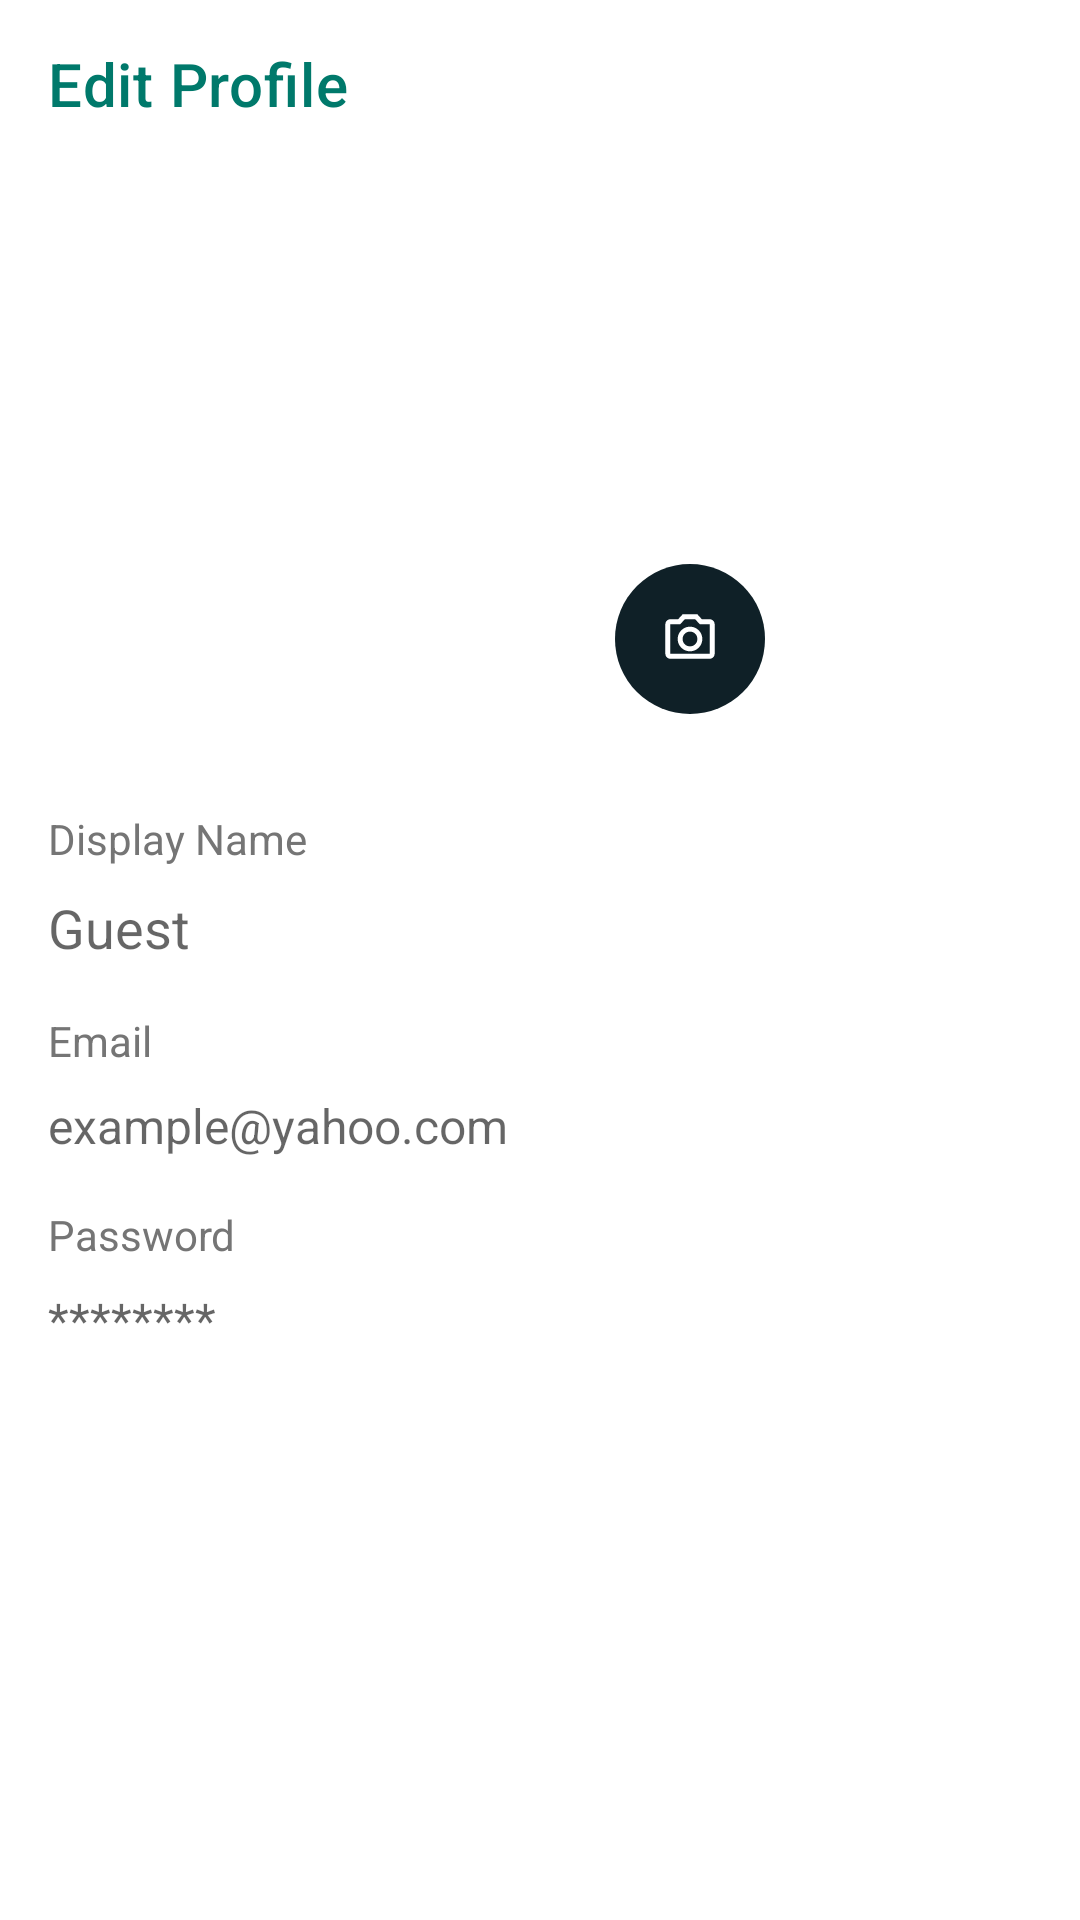

Icons on this 1080 x 1920 Android screen, each with the point to tap as (x,y):
camera: (690,639)
